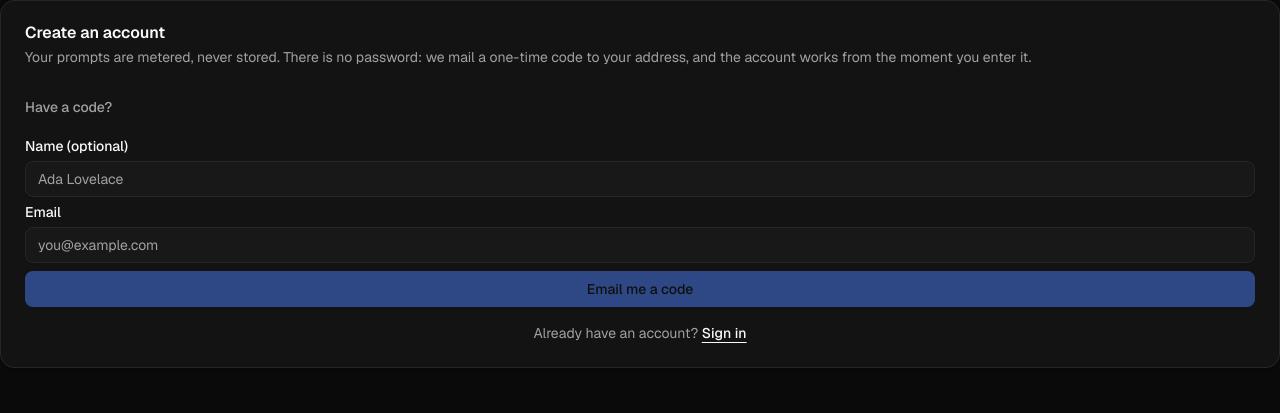
Scenario: SignUpForm › holds "Create account" until the code has every digit the deployment says it has
Step 1. Type "dev@example.com" into the field labelled "Email" → (640, 245), box [25,227,1255,263]
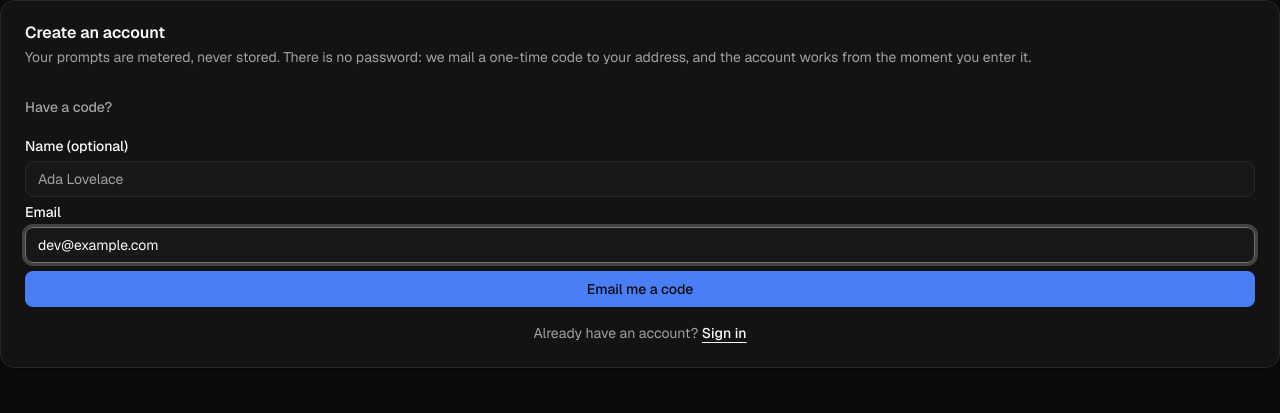
Step 2. Click the button "Email me a code" → (640, 289), box [25,271,1255,307]
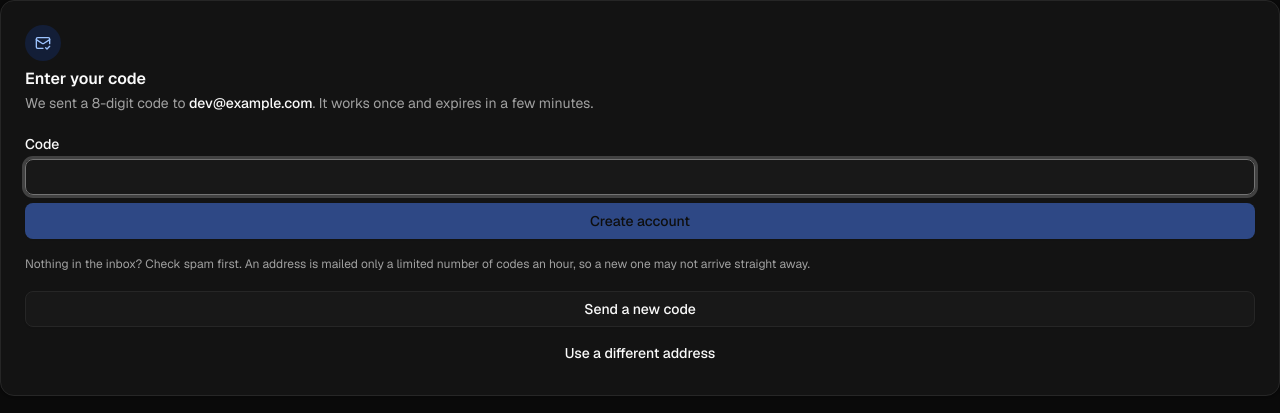
Step 3. Type "1234567" into the field labelled "Code" → (640, 177), box [25,159,1255,195]
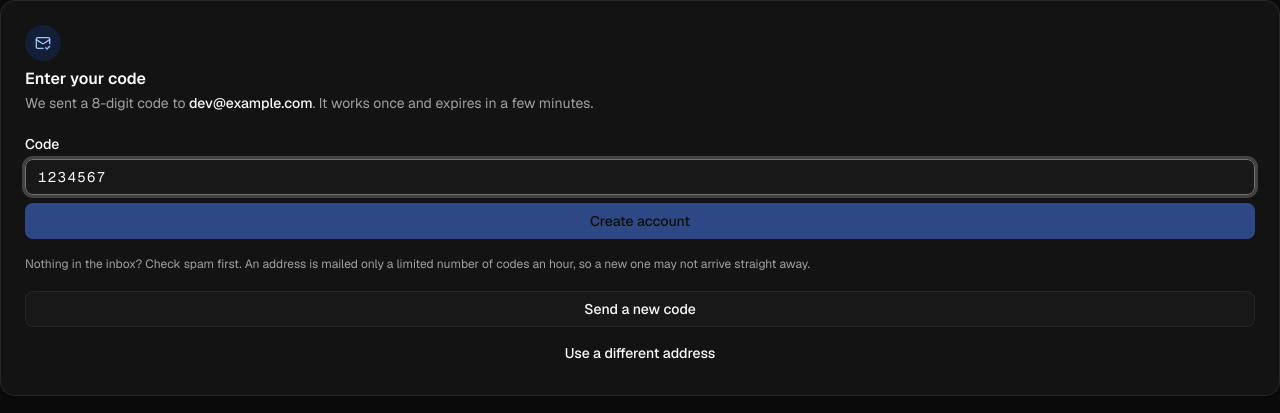
Result: the button "Create account" is disabled at [25,203,1255,239]
Step 4. Type "8" into the field labelled "Code" → (640, 177), box [25,159,1255,195]
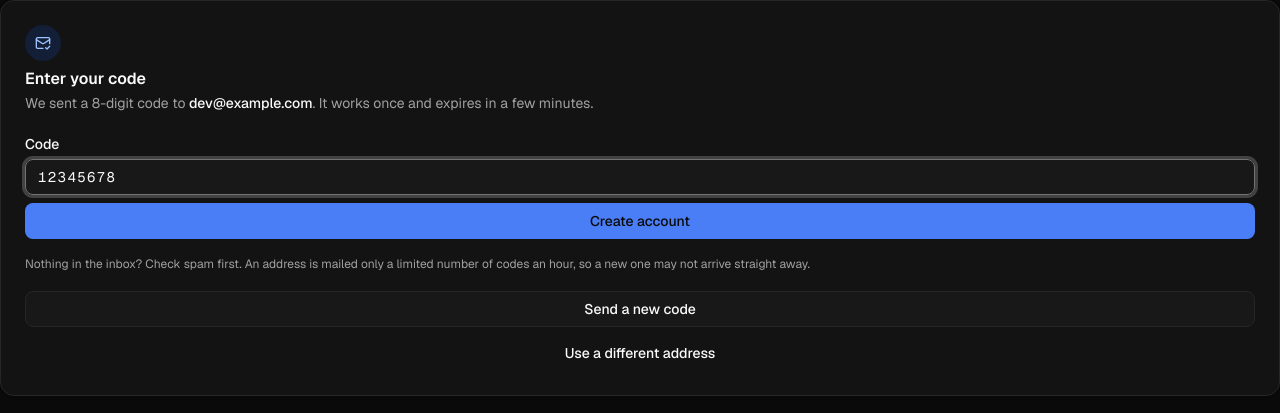
Result: the button "Create account" is enabled at [25,203,1255,239]
